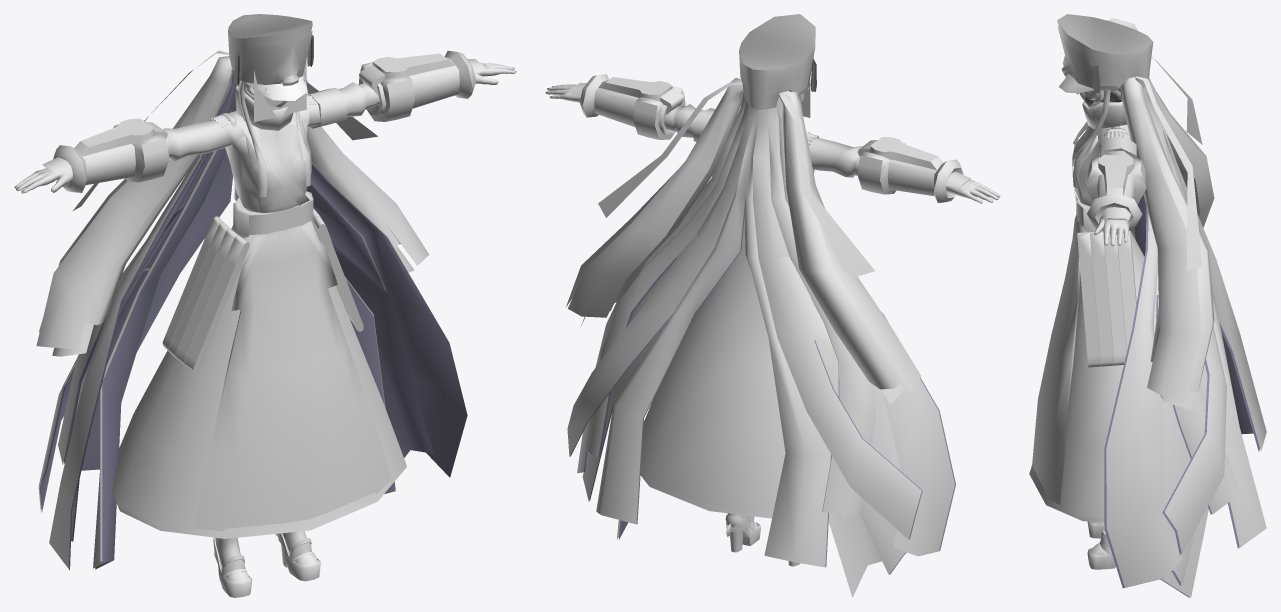
The model's file is altair.fbx.
3 renders of one model, left to right at view 1: azimuth 30°, elevation 25°; view 2: azimuth 150°, elevation 25°; view 3: azimuth 270°, elevation 25°, orthographic. The views are drawn at different scales.
Visible parts, largest first — view 1: altair_b, altair_d.001, altair_d, altair_c, altair_a2, altair_e, _face_bounds; view 2: altair_d, altair_b, altair_c, altair_e, altair_a2, altair_d.001; view 3: altair_d, altair_b, altair_c, altair_e, altair_d.001, altair_a2.
Part boxes in pixels (x1=…): altair_b: x1=112, y1=82, x2=406, y2=538; altair_d.001: x1=39, y1=74, x2=467, y2=570; altair_d: x1=36, y1=50, x2=429, y2=568; altair_c: x1=42, y1=50, x2=483, y2=371; altair_a2: x1=14, y1=63, x2=516, y2=597; altair_e: x1=228, y1=14, x2=313, y2=101; _face_bounds: x1=254, y1=59, x2=306, y2=122; altair_d: x1=566, y1=78, x2=954, y2=597; altair_b: x1=640, y1=104, x2=862, y2=518; altair_c: x1=571, y1=74, x2=970, y2=218; altair_e: x1=739, y1=14, x2=816, y2=109; altair_a2: x1=545, y1=84, x2=1000, y2=566; altair_d.001: x1=570, y1=197, x2=955, y2=574; altair_d: x1=1072, y1=57, x2=1266, y2=597; altair_b: x1=1029, y1=101, x2=1144, y2=522; altair_c: x1=1076, y1=18, x2=1146, y2=367; altair_e: x1=1057, y1=14, x2=1153, y2=93; altair_d.001: x1=1104, y1=194, x2=1259, y2=597; altair_a2: x1=1072, y1=125, x2=1136, y2=569.
Bounding box in the file's own units: 458 × 501 × 204.
